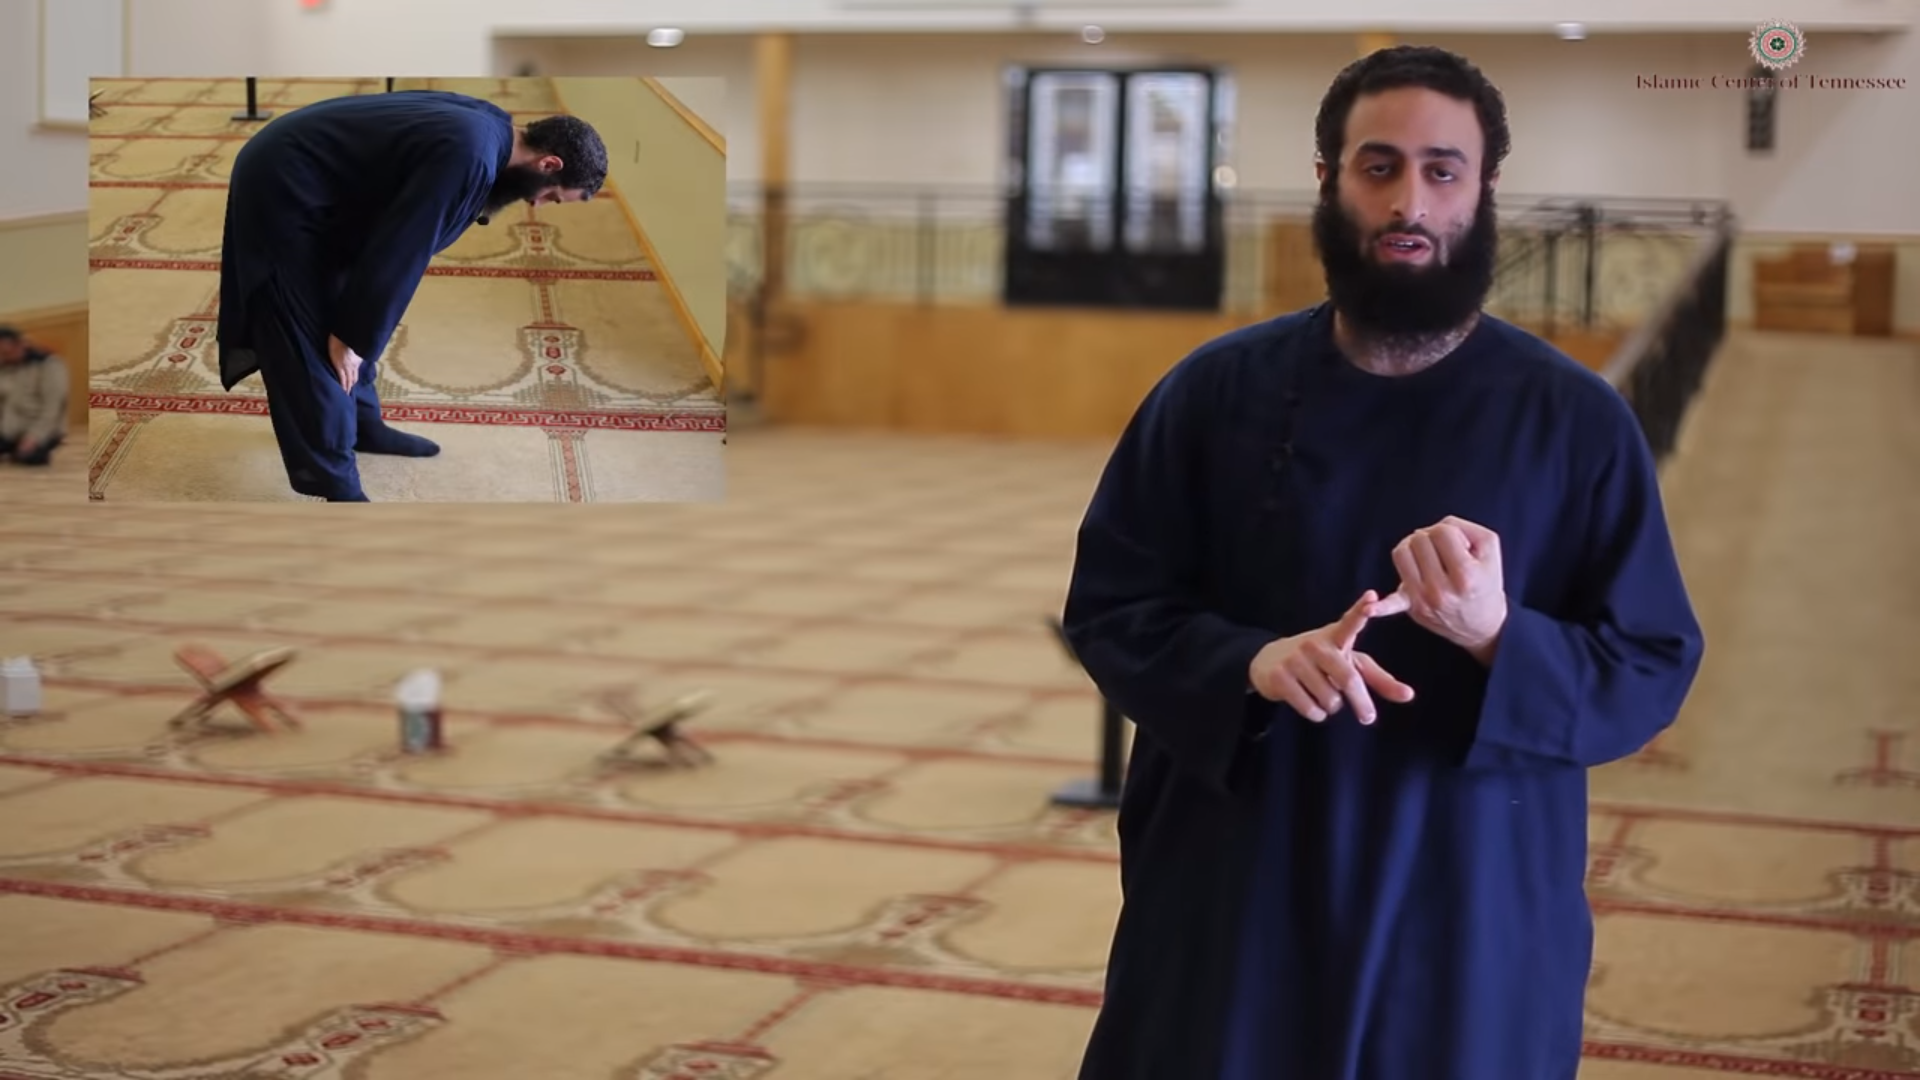ruku: (179, 88, 709, 522)
